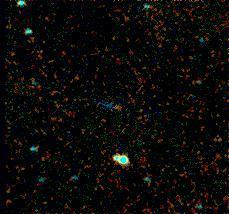star: (104, 91, 134, 121)
